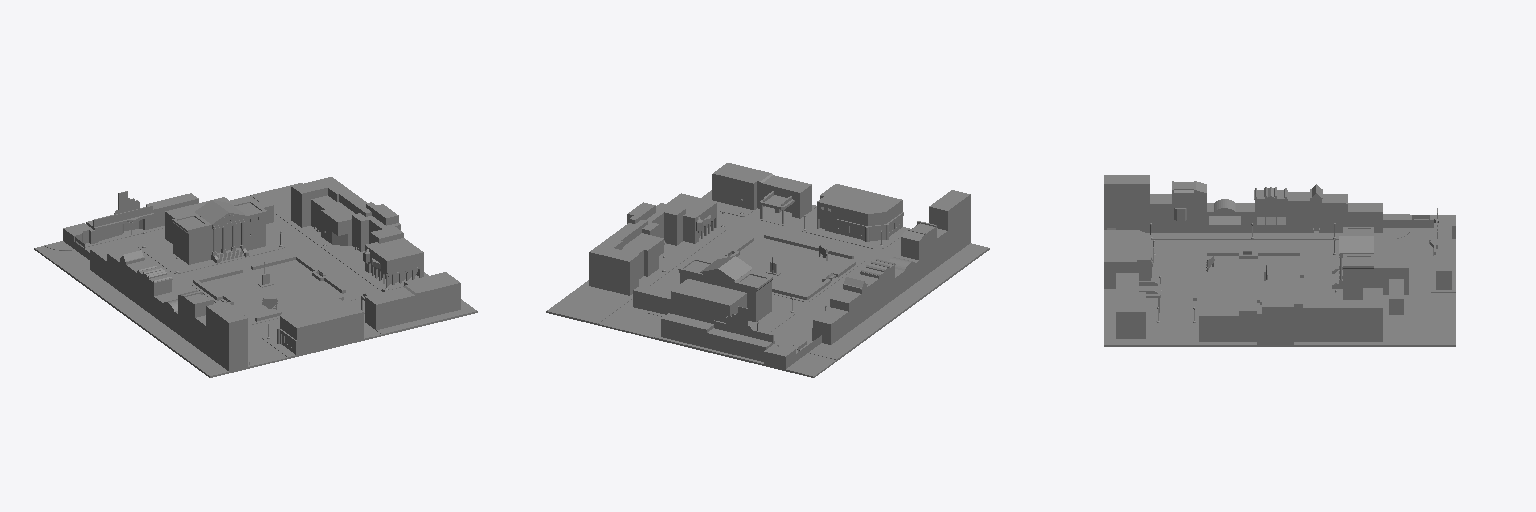
The model's file is Blockout_001.obj.
The picture shows the model from 3 angles: view 1: azimuth 30°, elevation 25°; view 2: azimuth 150°, elevation 25°; view 3: azimuth 270°, elevation 25°; orthographic projection.
Parts seen in each view (by area): view 1: Mesh19; view 2: Mesh19; view 3: Mesh19.
Boxes of the visible parts, x1,y1,x2,y2 form: Mesh19: [34, 177, 477, 377]; Mesh19: [546, 163, 989, 377]; Mesh19: [1104, 175, 1455, 346].
Size of the model in its own units: 4252 by 770 by 4834.